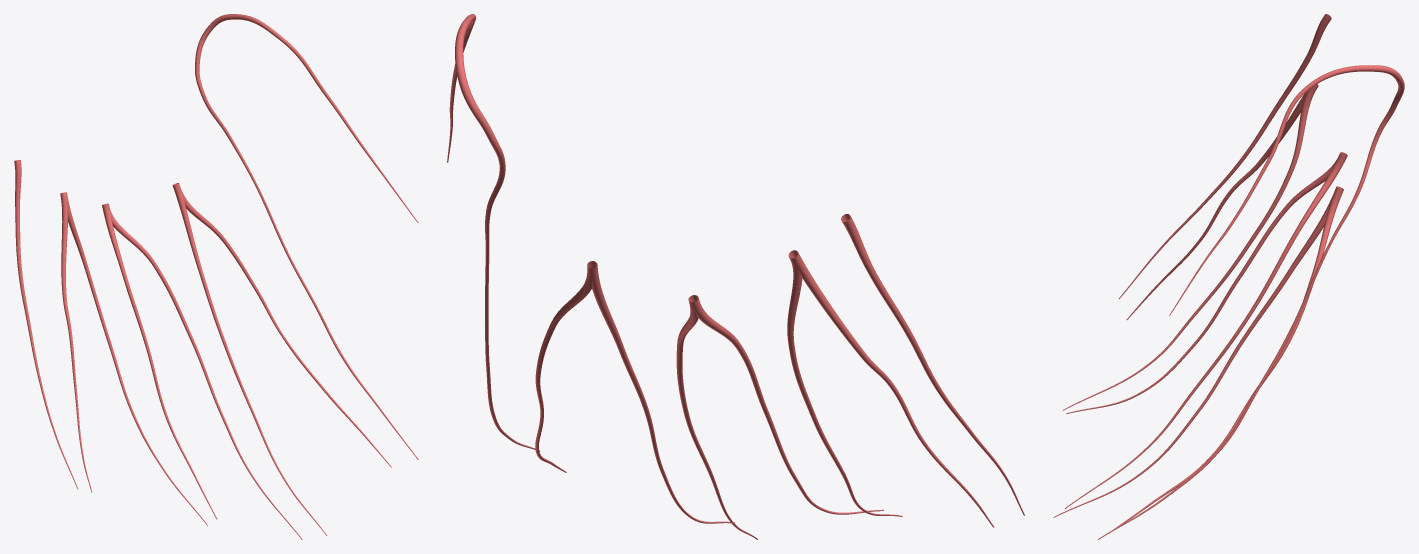
File: Dorsal_digital_arteries_hand_left.glb
The picture shows the model from 3 angles, left to right: view 1: azimuth 30°, elevation 25°; view 2: azimuth 150°, elevation 25°; view 3: azimuth 270°, elevation 25°; orthographic projection. The views are drawn at different scales.
Parts seen in each view (by area): view 1: Dorsal_digital_arteries_of_hand.l_BezierCurve.077; view 2: Dorsal_digital_arteries_of_hand.l_BezierCurve.077; view 3: Dorsal_digital_arteries_of_hand.l_BezierCurve.077.
Boxes of the visible parts, <box> form: Dorsal_digital_arteries_of_hand.l_BezierCurve.077: <box>14,14,418,539</box>; Dorsal_digital_arteries_of_hand.l_BezierCurve.077: <box>447,14,1024,539</box>; Dorsal_digital_arteries_of_hand.l_BezierCurve.077: <box>1053,14,1404,539</box>.
Size of the model in its own units: 0.1029 by 0.1112 by 0.0732.
